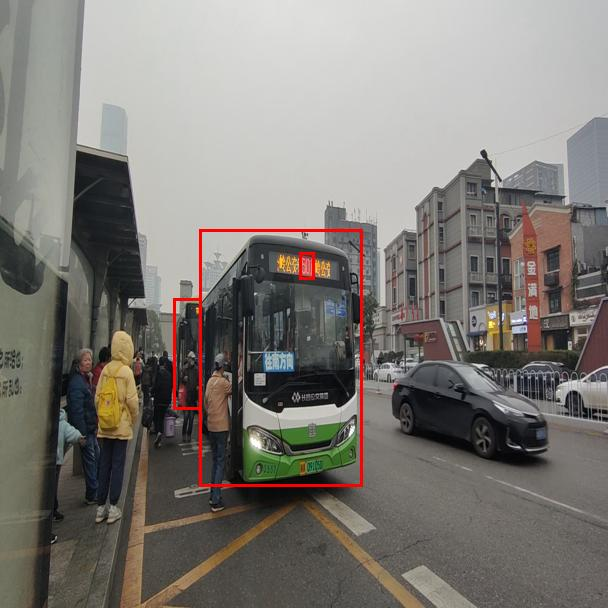bus: (199, 229, 362, 486), (173, 298, 201, 409)
screen: (299, 252, 314, 279)
